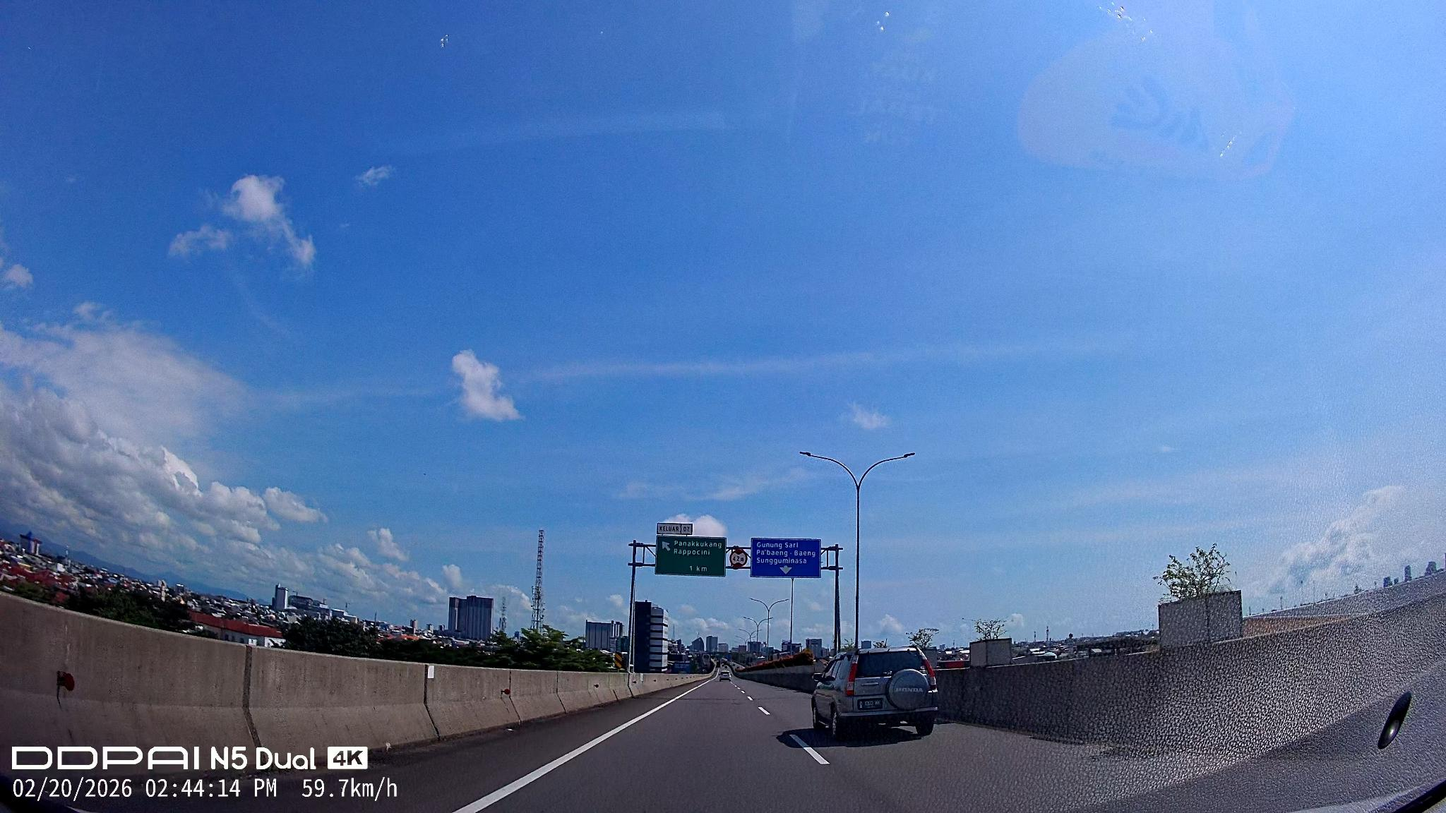rambu_teks: (655, 535, 727, 577), (751, 537, 821, 578)
